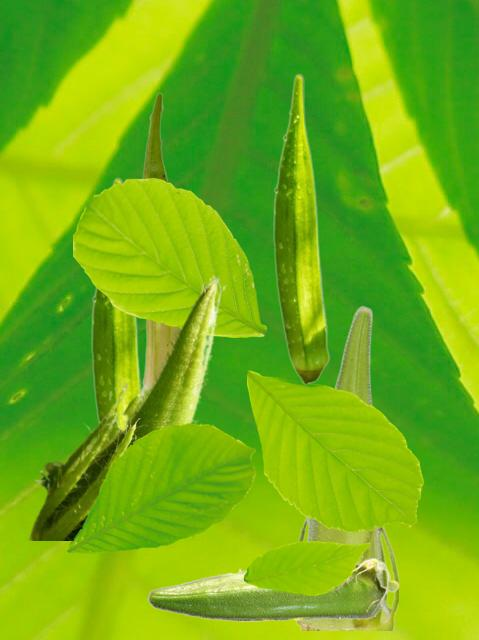okra: (26, 274, 225, 539), (295, 305, 397, 629), (273, 73, 329, 384), (147, 557, 398, 621), (91, 177, 141, 438), (140, 92, 176, 390)
